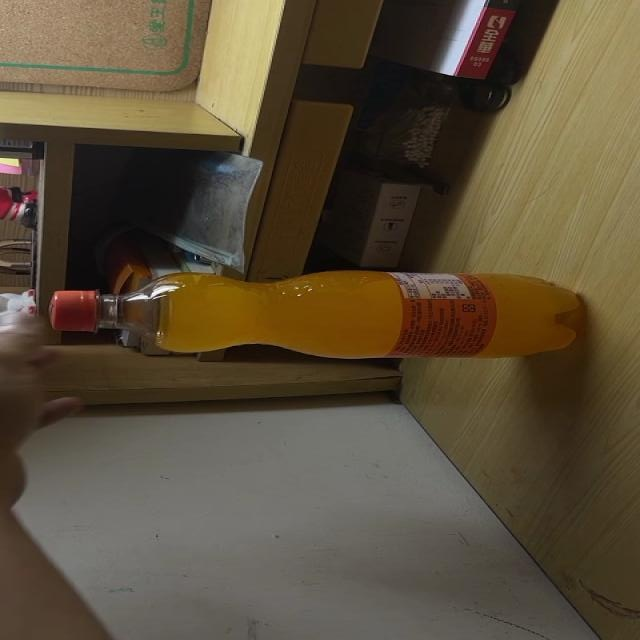Fanta: (52, 268, 577, 361)
